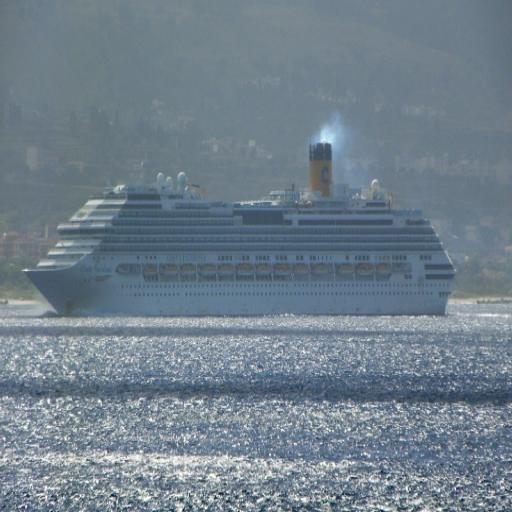cruises: (21, 134, 458, 327)
